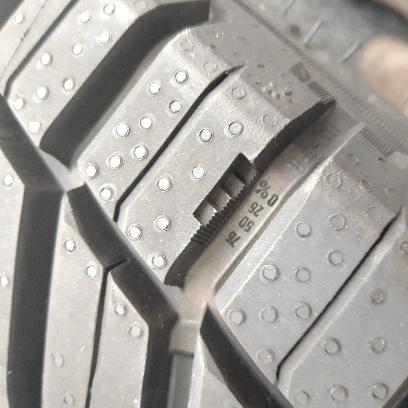temoin:100: (188, 151, 265, 247)
